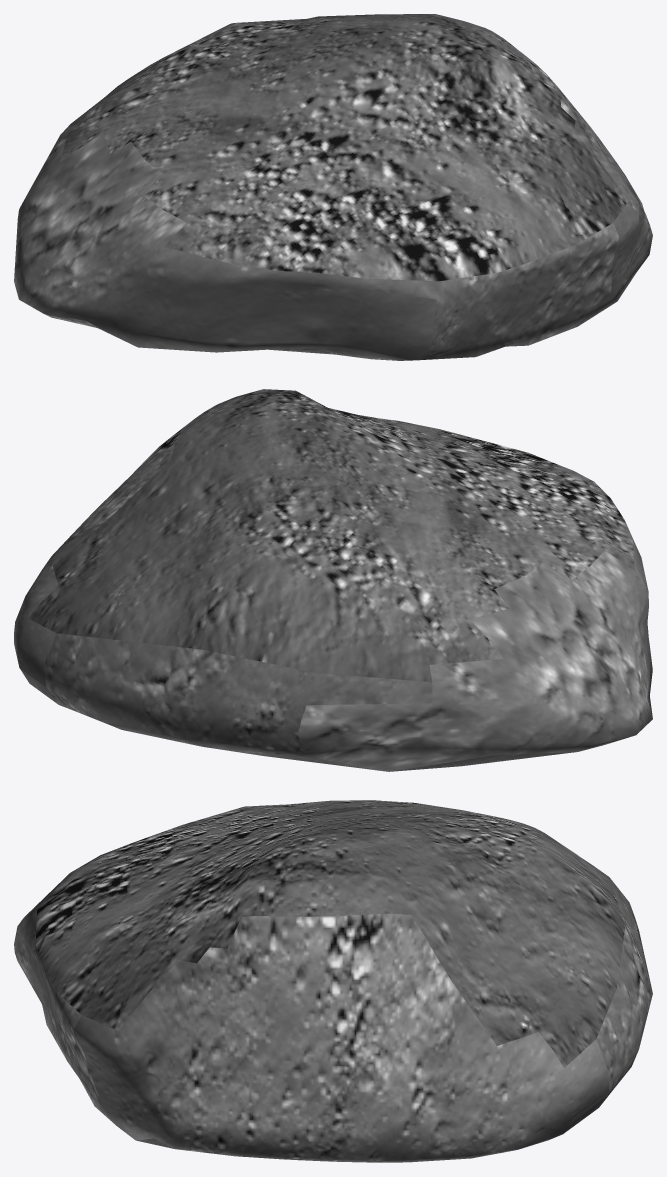
Rendered from Rock11.obj.
3 renders of one model, top to bottom at view 1: azimuth 30°, elevation 25°; view 2: azimuth 150°, elevation 25°; view 3: azimuth 270°, elevation 25°, orthographic. The views are drawn at different scales.
Parts seen in each view (by area): view 1: Rocks4; view 2: Rocks4; view 3: Rocks4.
Part boxes in pixels (<box>): Rocks4: <box>14,14,652,360</box>; Rocks4: <box>14,389,652,771</box>; Rocks4: <box>14,800,652,1162</box>.
Size of the model in its own units: 0.7554 by 0.3194 by 0.714.
1 material, 1 textured.
